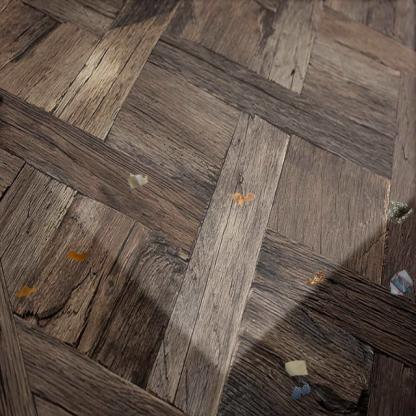dirty: (384, 198, 414, 226), (389, 269, 415, 297), (304, 266, 328, 288), (284, 359, 310, 378), (230, 190, 256, 208), (125, 172, 149, 189), (66, 248, 89, 264)
liquid: (289, 384, 313, 401), (15, 284, 36, 298)
